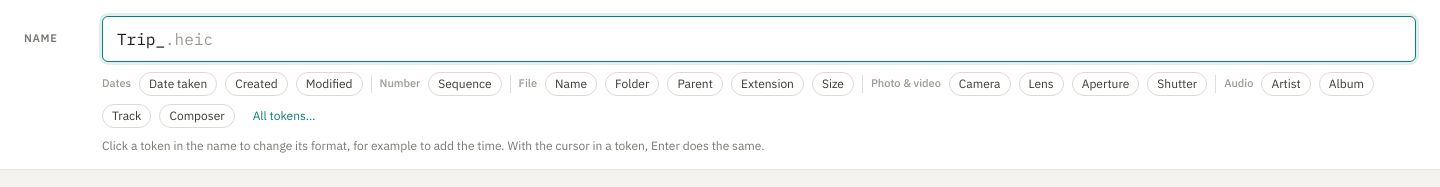
it: PatternBar › inserts a palette token at the cursor and puts the caret after it
The width and height of the screenshot is (1440, 187).
Click the button "Date taken".
click(178, 84)  # box x1=139 y1=72 x2=217 y2=96
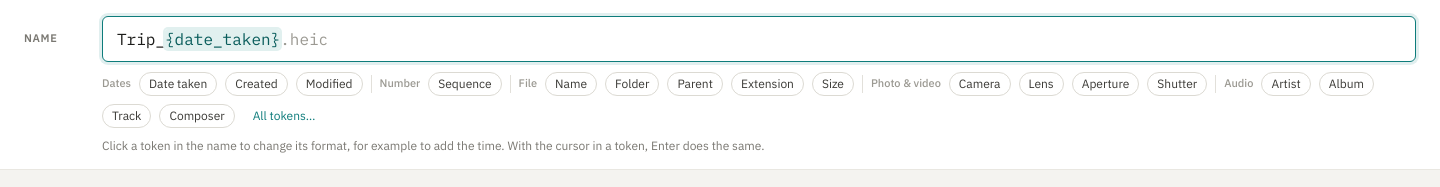
Expected: the field named "Name pattern" holds "Trip_{date_taken}", x1=103 y1=17 x2=1415 y2=61
